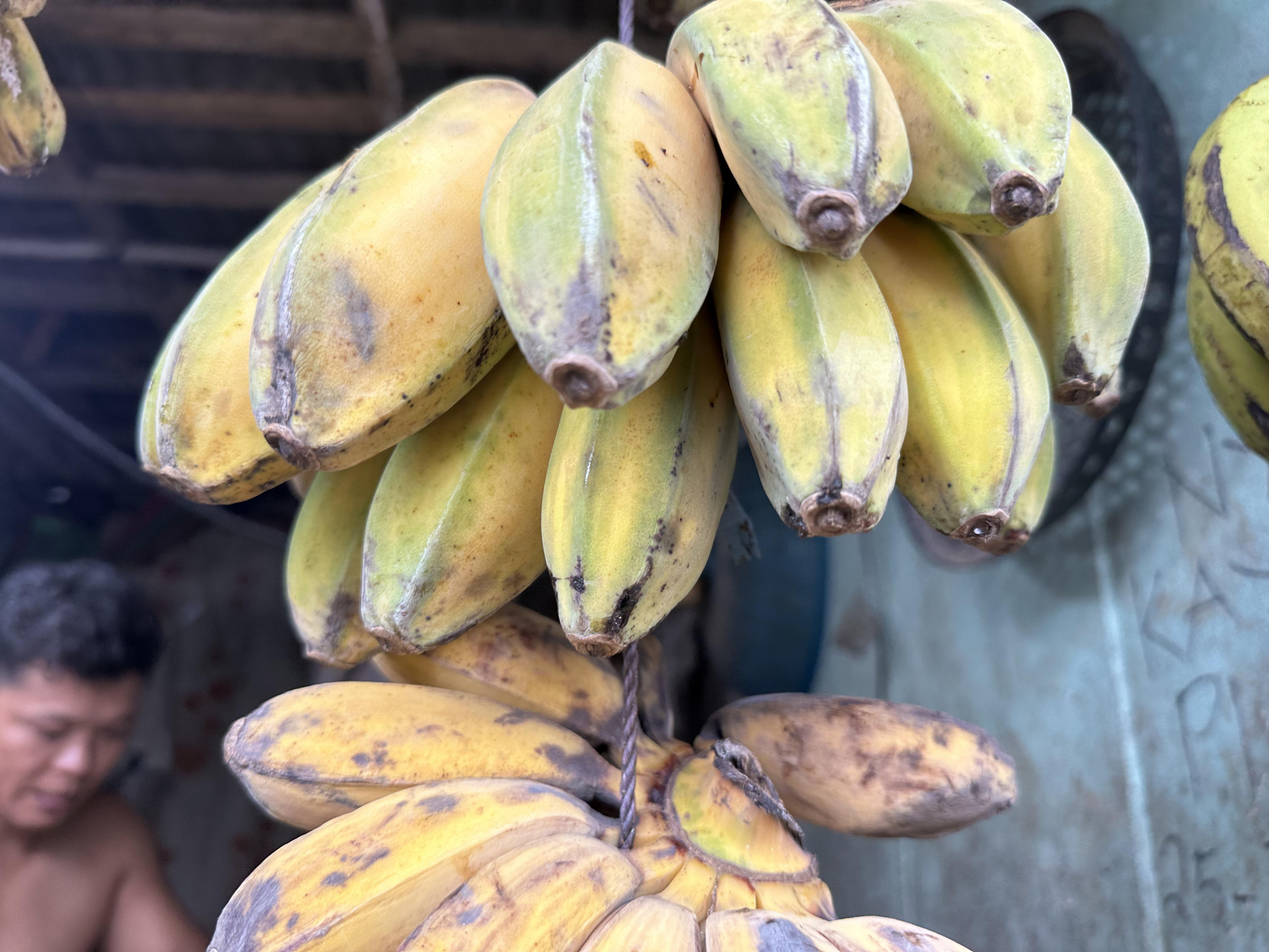ripe: (206, 603, 993, 952)
underripe: (140, 0, 1153, 666)
